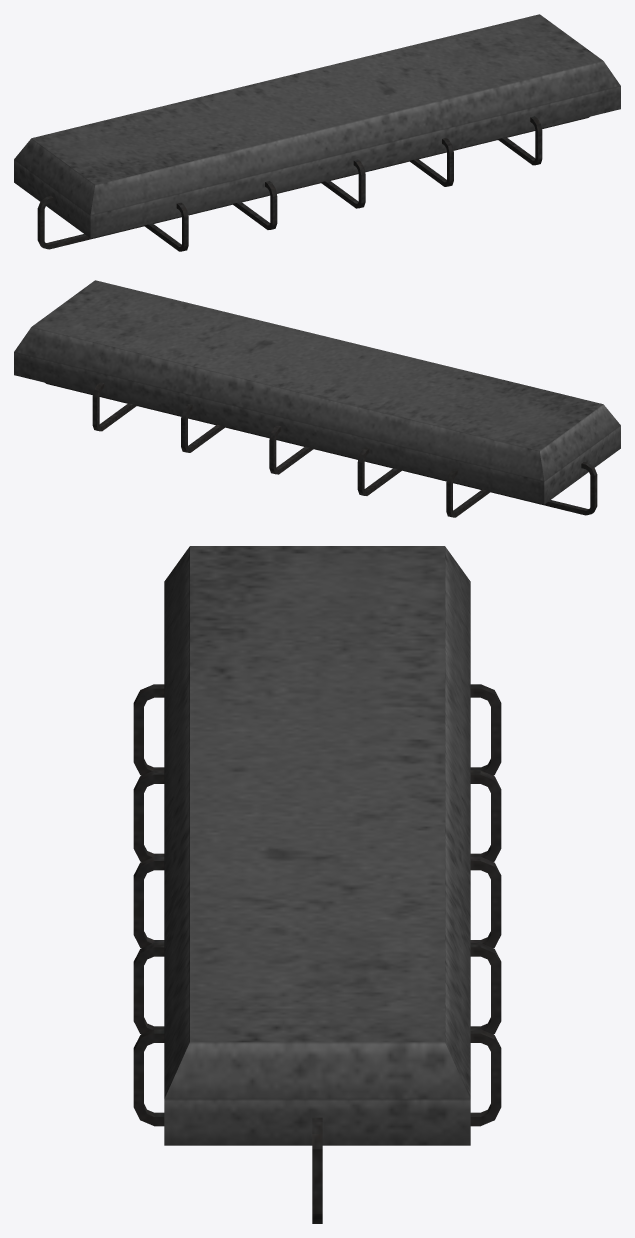
Rendered from ceiling_lamp_4_1_off.fbx.
3 views of the same model, one above another, from view 1: azimuth 30°, elevation 25°; view 2: azimuth 150°, elevation 25°; view 3: azimuth 270°, elevation 25° (orthographic). The views are drawn at different scales.
Parts seen in each view (by area): view 1: ceiling_lamp_4_1_off, ceiling_lamp_4_1_off_protector; view 2: ceiling_lamp_4_1_off, ceiling_lamp_4_1_off_protector; view 3: ceiling_lamp_4_1_off, ceiling_lamp_4_1_off_protector.
Part boxes in pixels (box(x1,y1,x2,y2)): ceiling_lamp_4_1_off: box(14, 14, 620, 238); ceiling_lamp_4_1_off_protector: box(37, 116, 589, 251); ceiling_lamp_4_1_off: box(14, 280, 620, 504); ceiling_lamp_4_1_off_protector: box(45, 382, 597, 517); ceiling_lamp_4_1_off: box(164, 546, 470, 1145); ceiling_lamp_4_1_off_protector: box(133, 684, 501, 1223).
Size of the model in its own units: 1.26 by 0.18 by 0.36.
2 materials, 2 textured.
